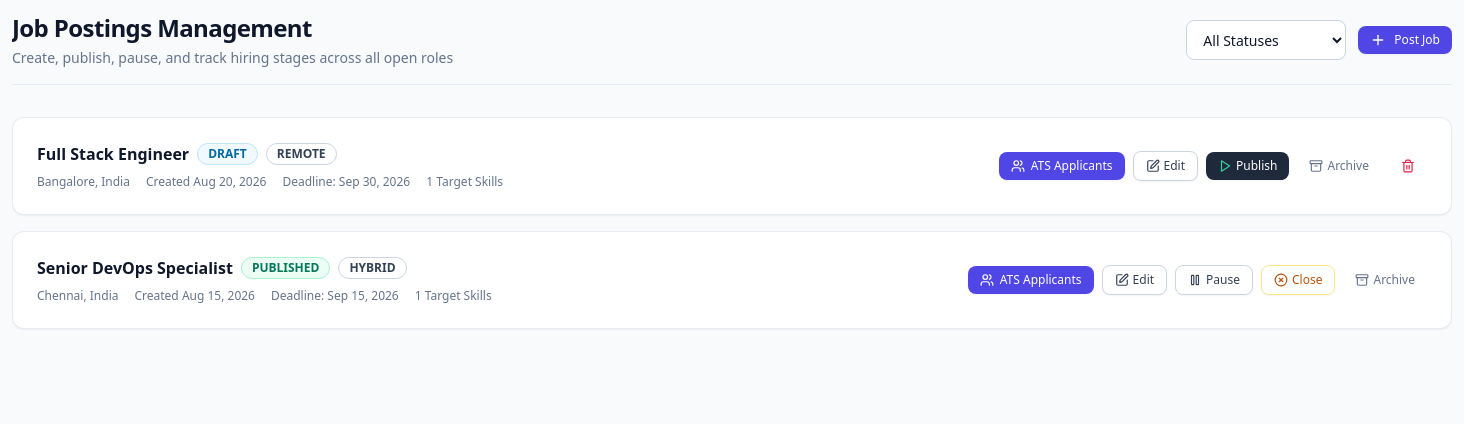
Test: Recruiter Job Management Lifecycle › archives a job and updates status to ARCHIVED with success feedback
This screenshot has width=1464, height=424.
expect the text "Senior DevOps Specialist" is shown: met, box [37,256,233,280]
Click the button "Archive" in the row of "Sep 30, 2026". click: point(1339, 166)
box: [1298,152,1381,180]
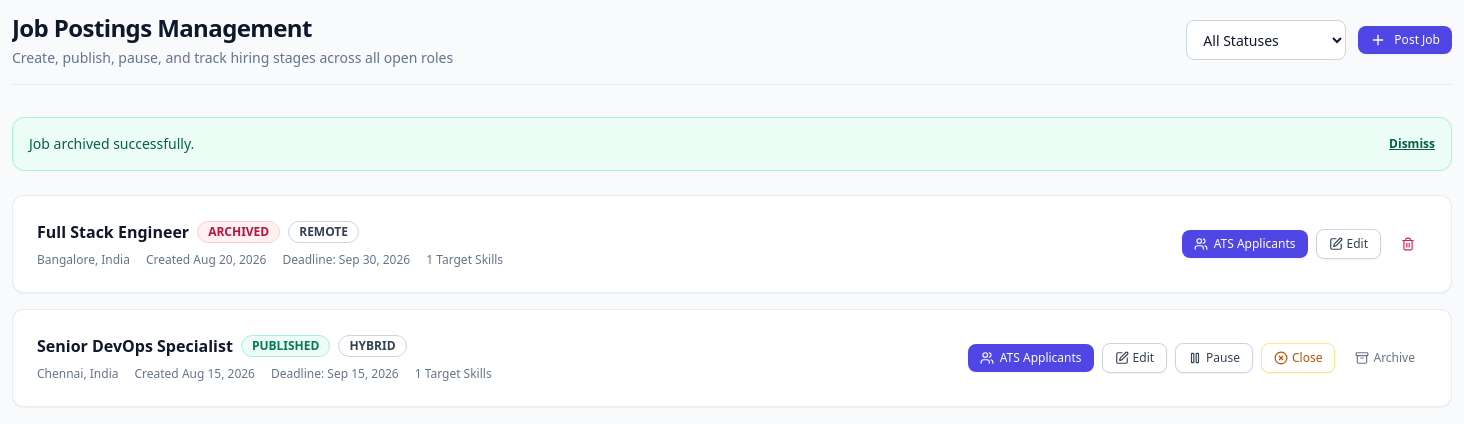
expect the text "Job archived successfully." is shown: met, box [29,134,194,154]
expect the text "ARCHIVED" is shown: met, box [197,221,280,243]
